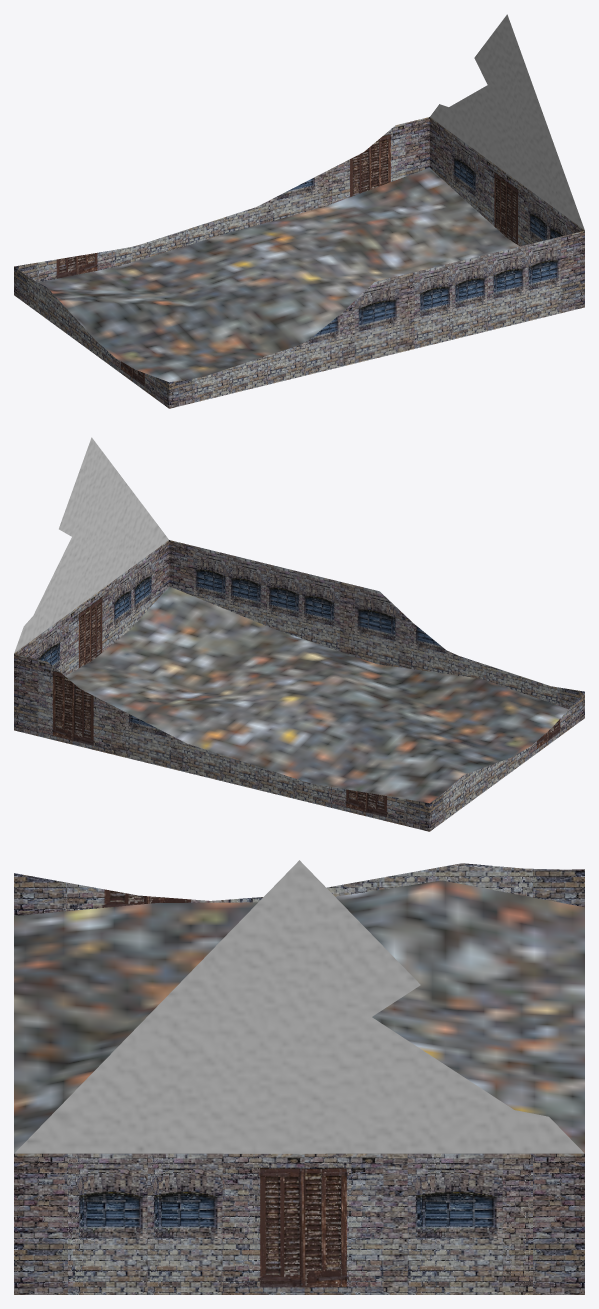
The model's file is House_009_destroyed_001.dae.
3 views of the same model, one above another, from view 1: azimuth 30°, elevation 25°; view 2: azimuth 150°, elevation 25°; view 3: azimuth 270°, elevation 25° (orthographic). The views are drawn at different scales.
Parts seen in each view (by area): view 1: House_009; view 2: House_009; view 3: House_009.
Boxes of the visible parts, <box> form: House_009: <box>14,14,584,408</box>; House_009: <box>14,437,584,831</box>; House_009: <box>14,860,584,1294</box>.
Bounding box in the file's own units: 136 × 88 × 73.93.
1 material, 1 textured.
